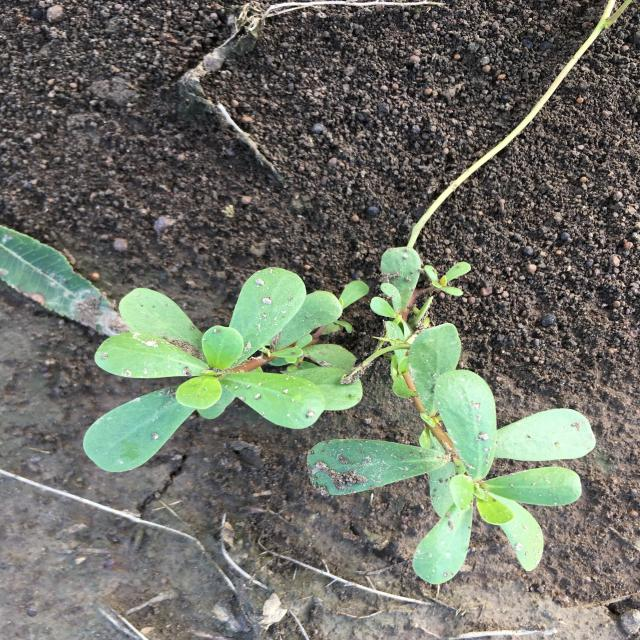Purslane: (306, 246, 596, 585), (83, 267, 369, 472)
